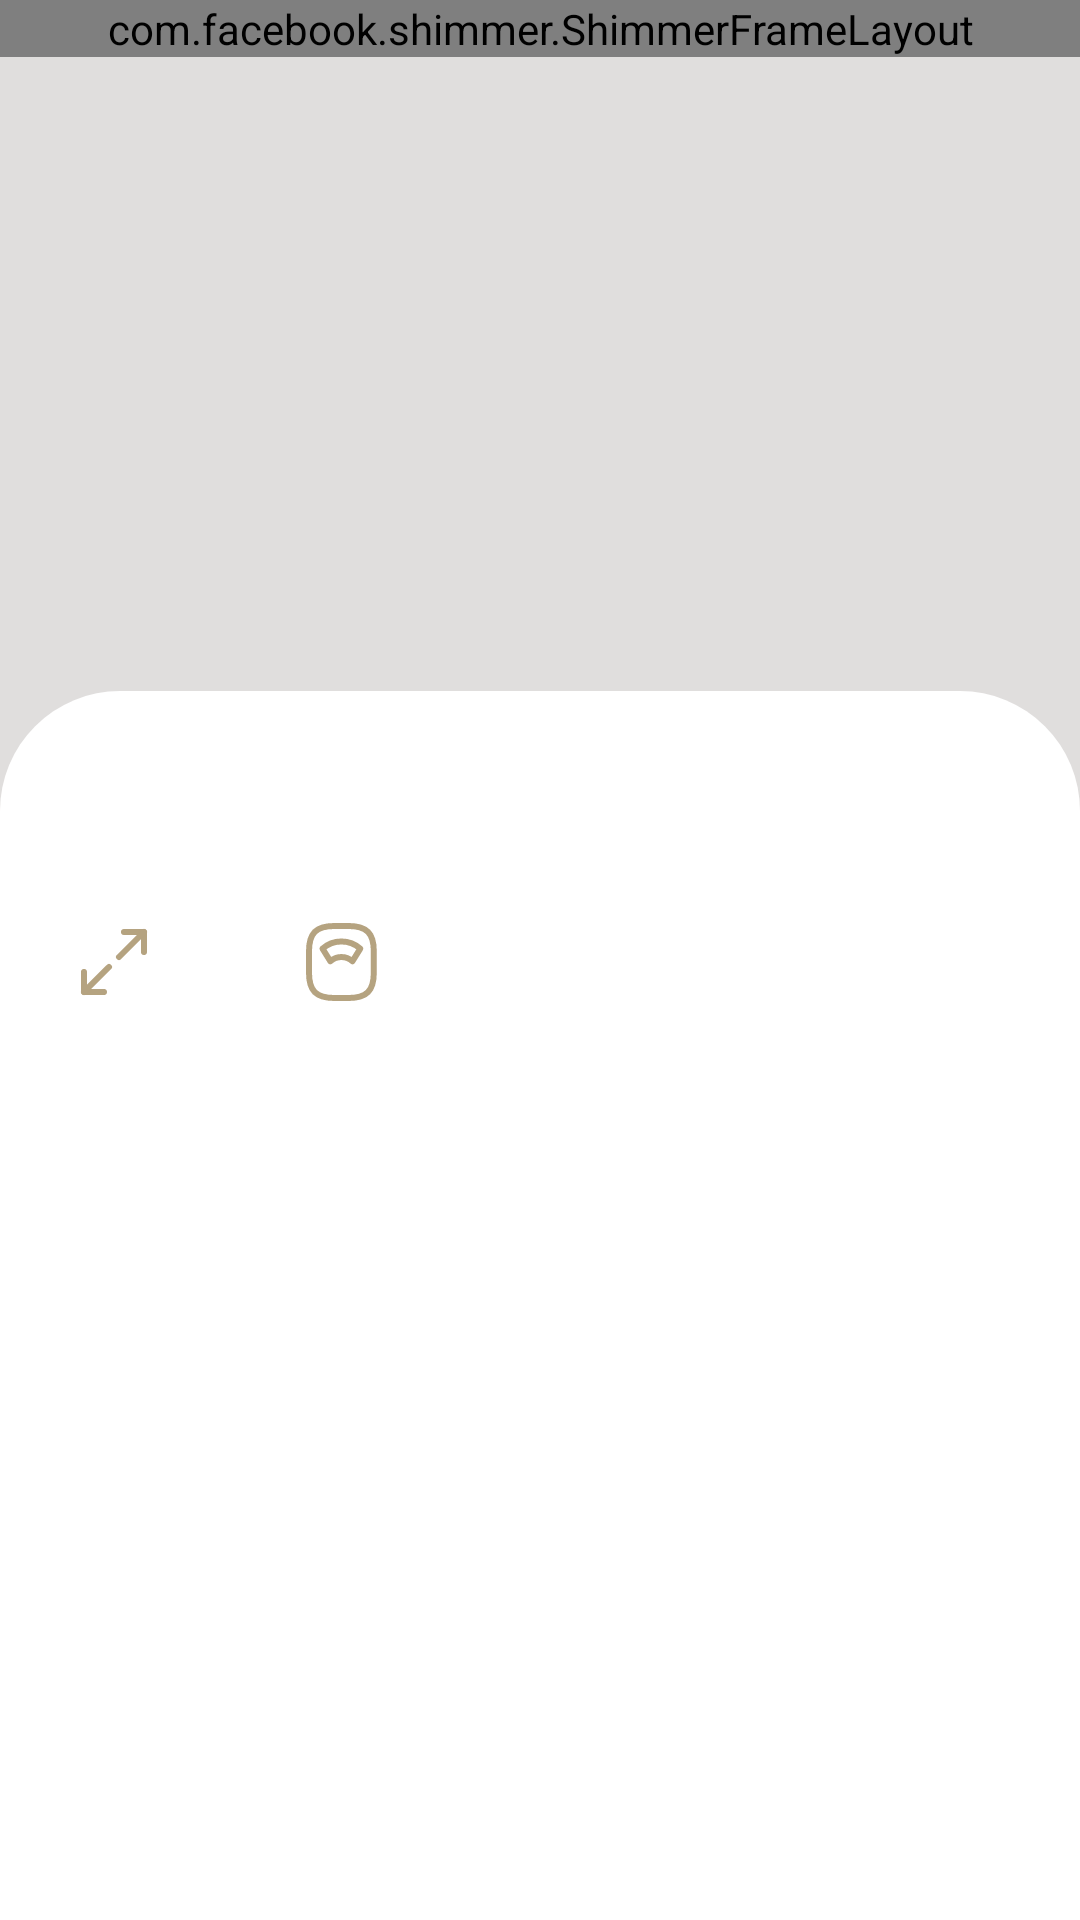

Icon click points for this 1080x1920 phone screenshot, format [x,y]:
weight: [341,962]
